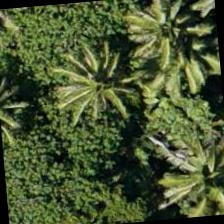Kelapa_Sawit: (43, 44, 142, 142), (95, 0, 192, 76), (147, 150, 223, 221)
